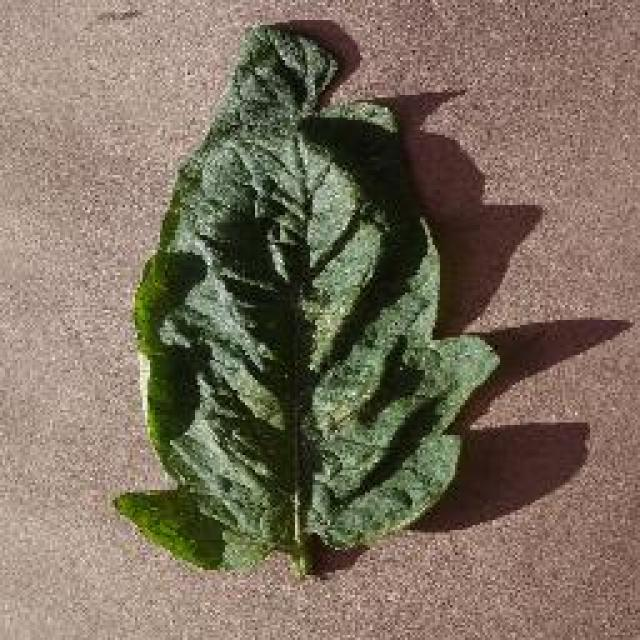Tom_Spider_mites Two-spotted_spider_mite: (184, 144, 426, 494)
